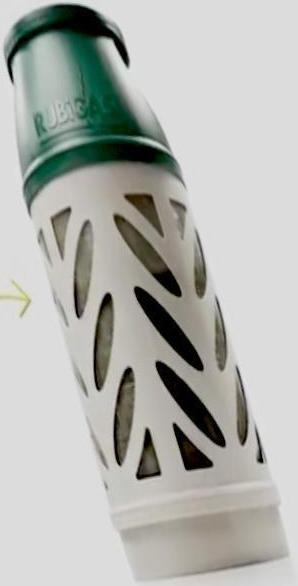cylinder: (1, 0, 298, 586)
